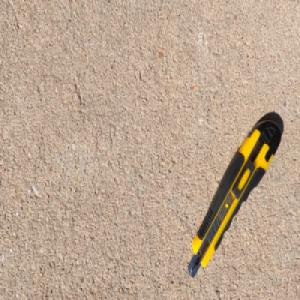Cutter: (187, 117, 282, 279)
